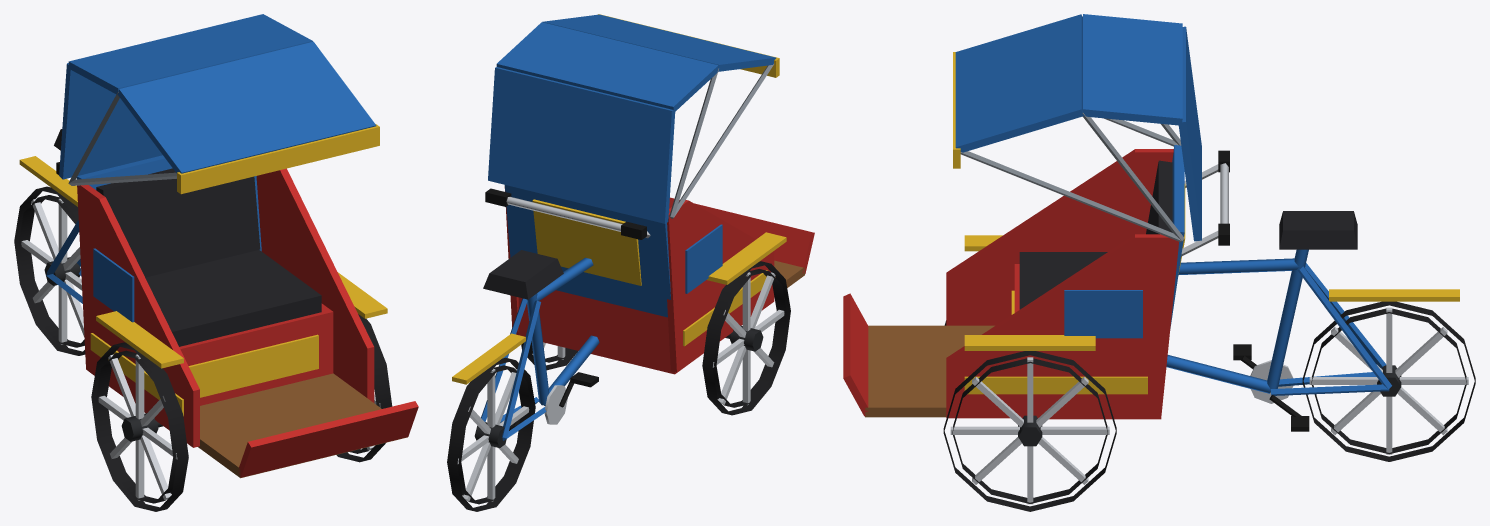
The model's file is becak.glb.
3 views of the same model, side by side, from view 1: azimuth 30°, elevation 25°; view 2: azimuth 150°, elevation 25°; view 3: azimuth 270°, elevation 25° (orthographic). The views are drawn at different scales.
Visible parts, largest first — view 1: body, wheel_fr, wheel_r, wheel_fl; view 2: body, wheel_fr, wheel_r, wheel_fl; view 3: body, wheel_fl, wheel_r.
Part boxes in pixels (box(x1,y1,x2,y2)): body: box(19, 14, 418, 478); wheel_fr: box(91, 342, 188, 511); wheel_r: box(14, 186, 85, 355); wheel_fl: box(336, 314, 392, 462); body: box(452, 14, 814, 440); wheel_fr: box(702, 261, 790, 415); wheel_r: box(447, 357, 535, 511); wheel_fl: box(521, 341, 577, 370); body: box(843, 14, 1459, 431); wheel_fl: box(943, 351, 1116, 511); wheel_r: box(1302, 301, 1475, 461).
Bounding box in the file's own units: 1.01 × 1.67 × 2.41.
Materials: 1 (1 with a texture image).
